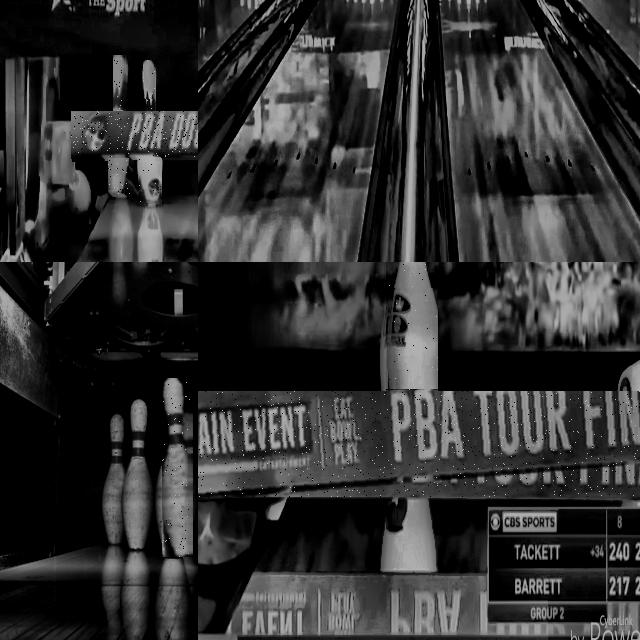bowling-pins: (386, 262, 438, 391), (122, 399, 154, 551), (163, 378, 190, 557), (102, 414, 125, 545), (182, 415, 198, 545), (138, 158, 161, 203), (109, 159, 130, 194), (114, 56, 125, 110), (144, 61, 155, 110)
sweep board: (198, 391, 640, 496), (72, 112, 198, 157)
